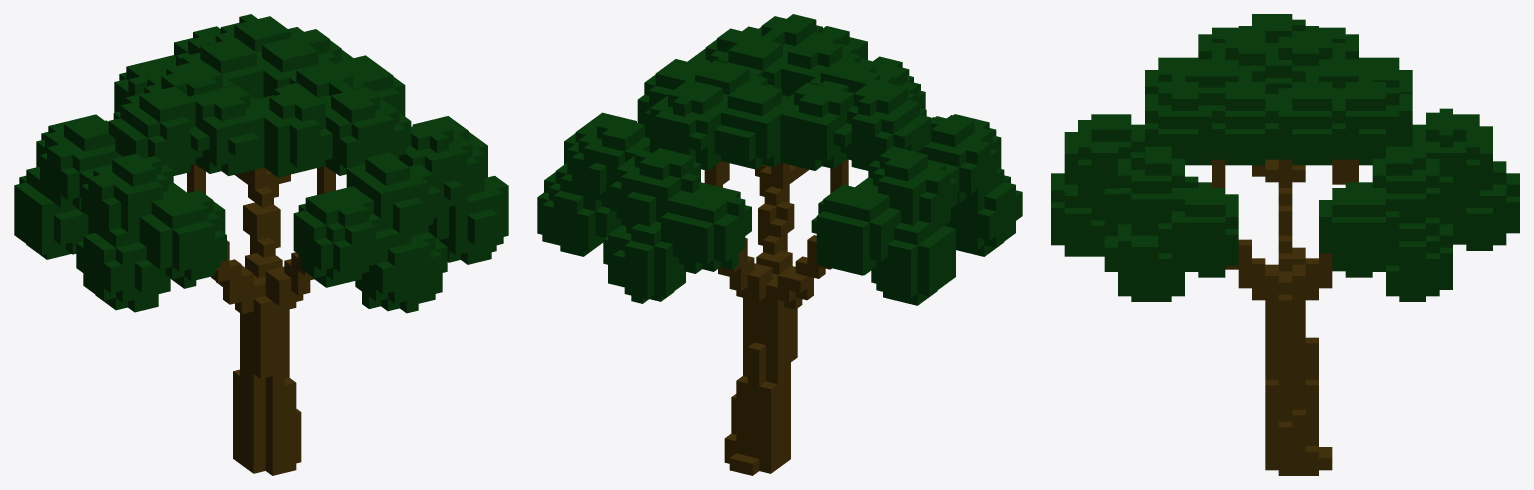
Rendered from Tree4-2-3.obj.
The picture shows the model from 3 angles, left to right: view 1: azimuth 30°, elevation 25°; view 2: azimuth 150°, elevation 25°; view 3: azimuth 270°, elevation 25°; orthographic projection. The views are drawn at different scales.
Visible parts, largest first — view 1: 3; view 2: 3; view 3: 3.
Boxes of the visible parts, <box> form: 3: <box>14,14,508,475</box>; 3: <box>537,14,1022,475</box>; 3: <box>1051,14,1519,475</box>.
Size of the model in its own units: 12.4 by 12.8 by 14.
1 material, 1 textured.
